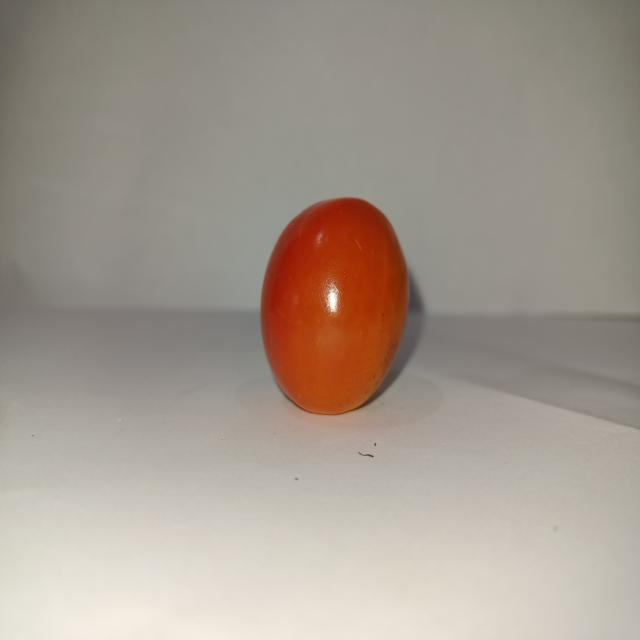Red: (258, 195, 410, 415)
